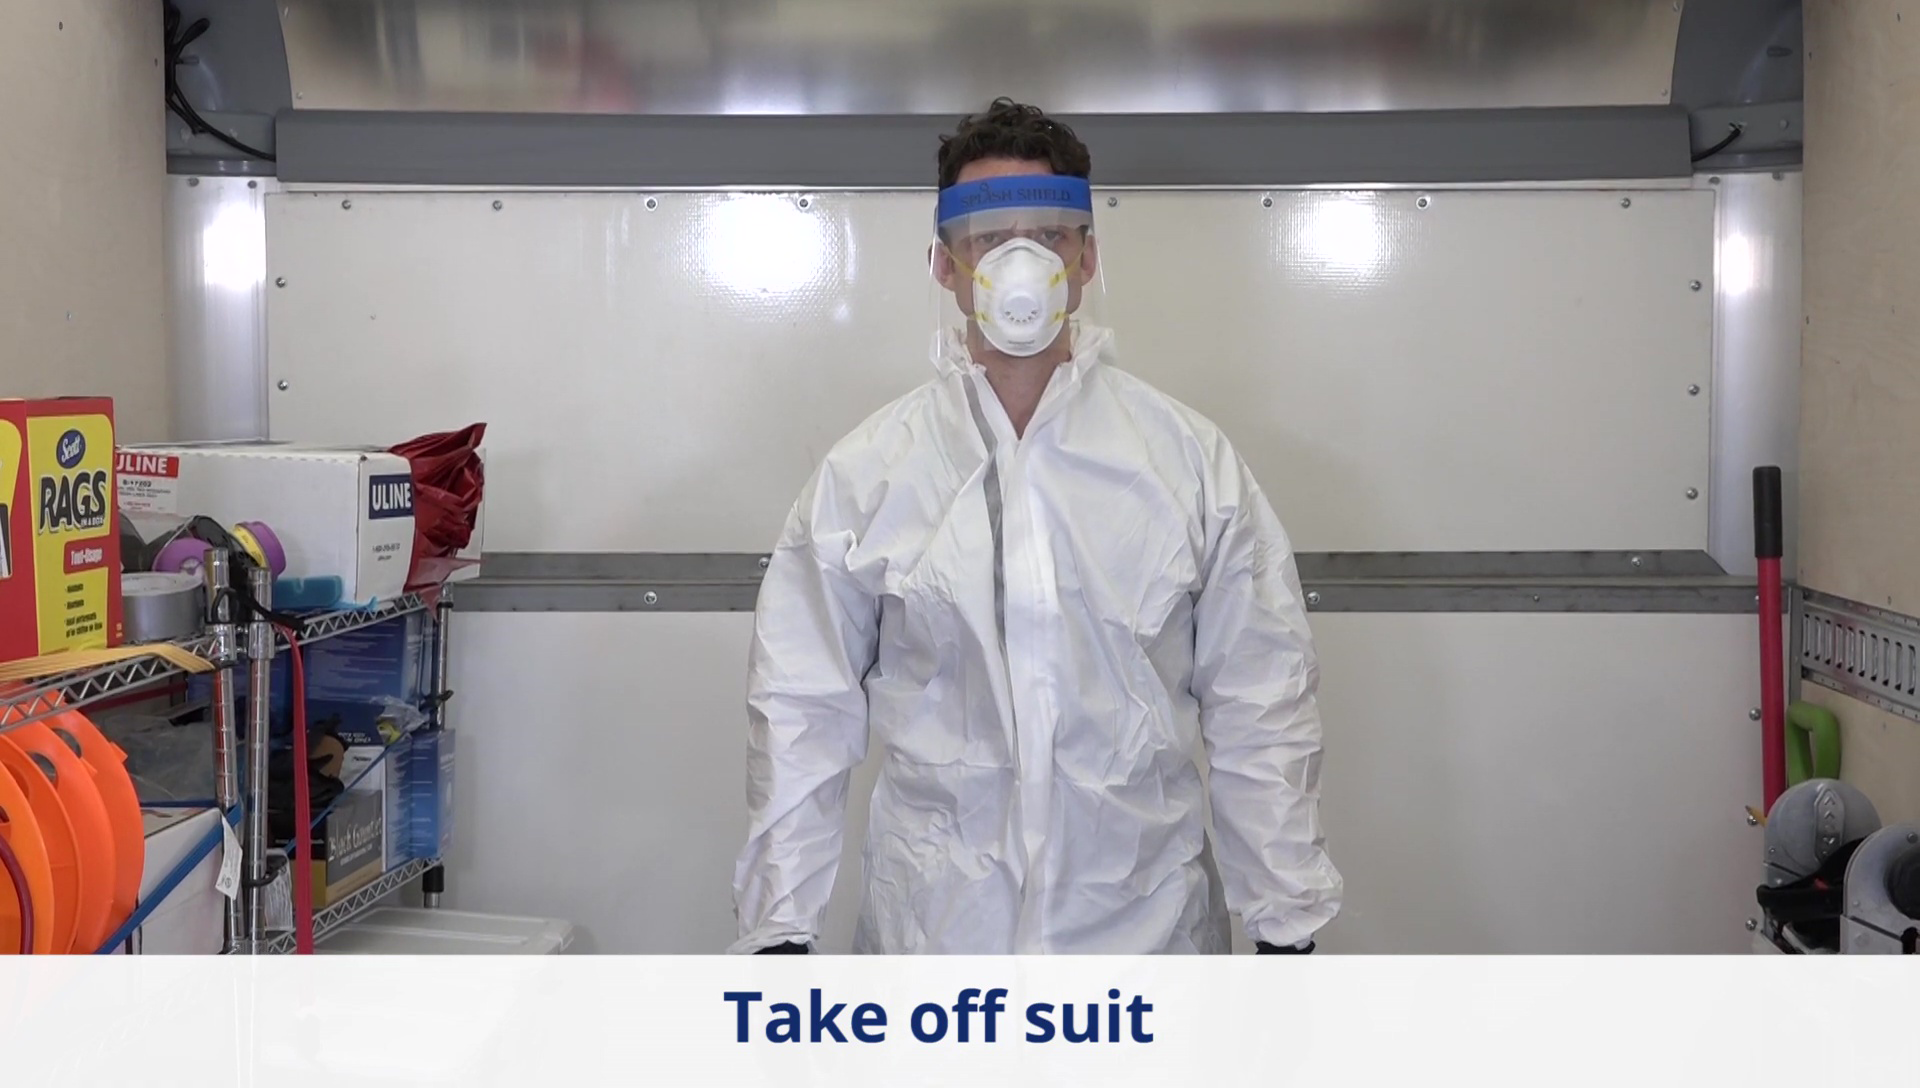Coverall: (738, 354, 1344, 950)
Face_Shield: (928, 174, 1112, 374)
with_mask: (971, 225, 1077, 359)
